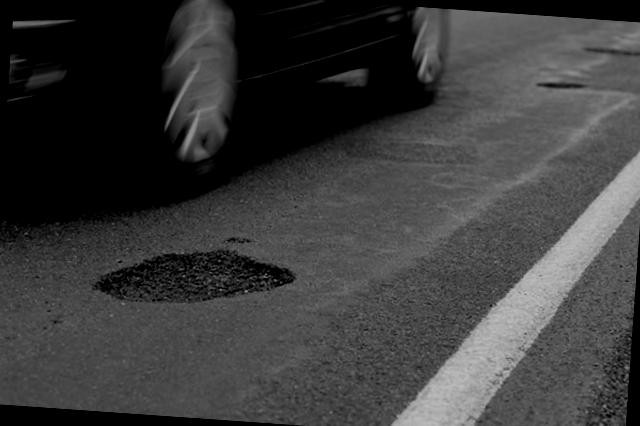Pothole: (64, 228, 298, 335), (516, 66, 588, 111), (583, 24, 640, 58)
